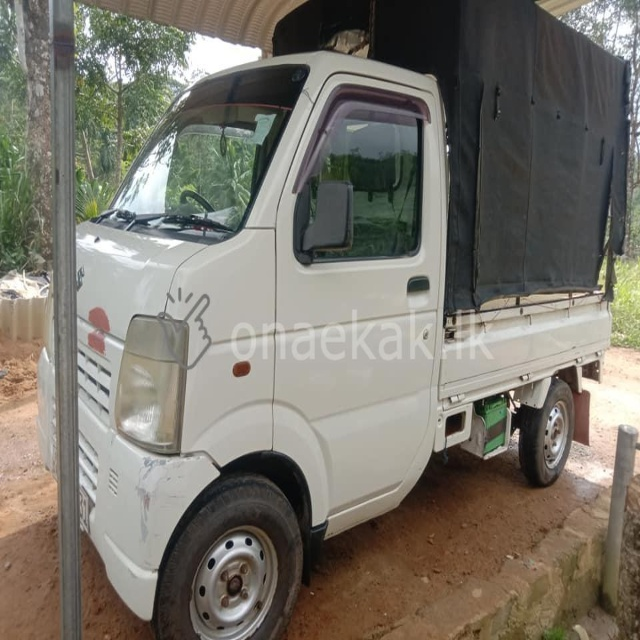Truck: (36, 1, 631, 640)
